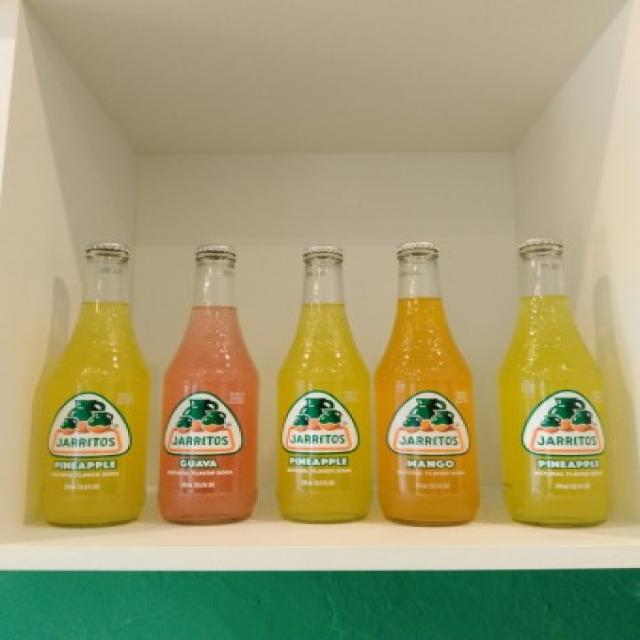glass: (490, 232, 628, 529), (25, 240, 163, 519), (370, 242, 503, 530), (152, 241, 271, 526)
